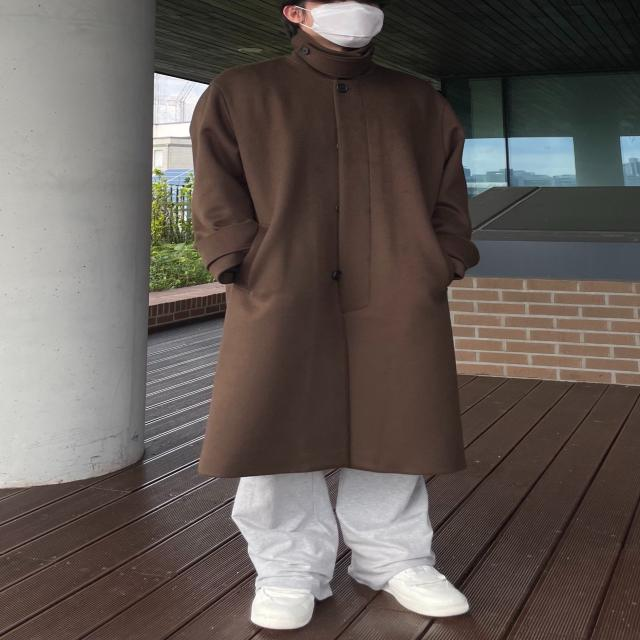coat: (190, 29, 478, 476)
trainingpants: (233, 468, 435, 601)
